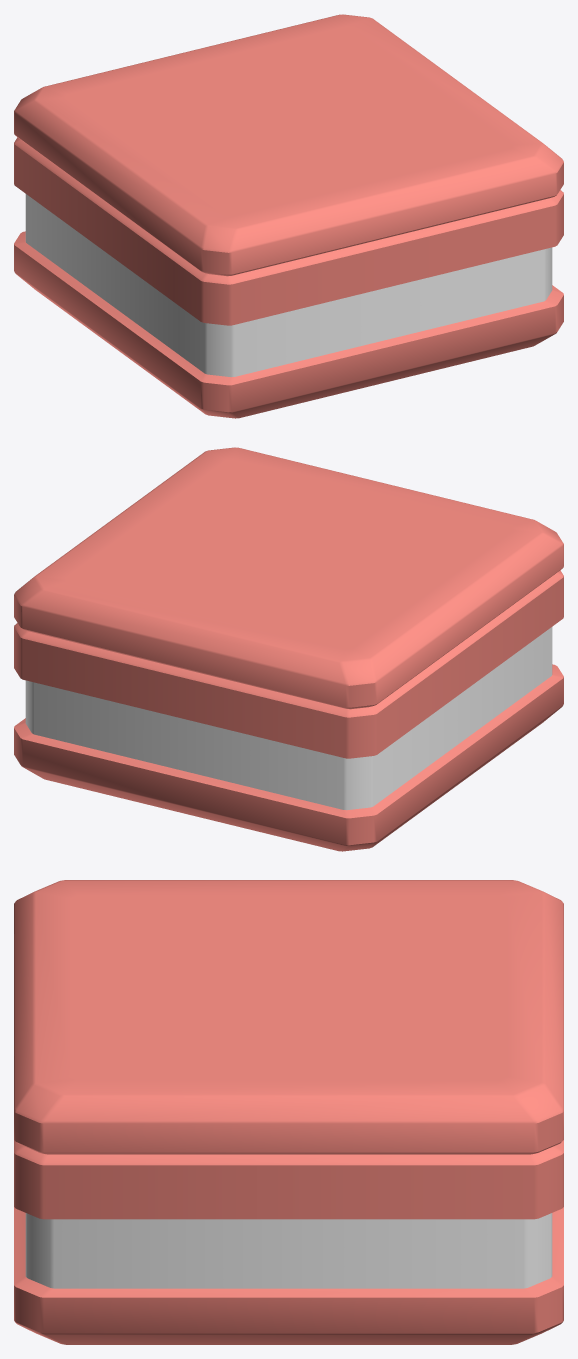
Rendered from 10_Box_red_semi_sized.fbx.
The picture shows the model from 3 angles, top to bottom: view 1: azimuth 30°, elevation 25°; view 2: azimuth 150°, elevation 25°; view 3: azimuth 270°, elevation 25°; orthographic projection. The views are drawn at different scales.
Visible parts, largest first — view 1: 10_Box_red_semi_sized; view 2: 10_Box_red_semi_sized; view 3: 10_Box_red_semi_sized.
Boxes of the visible parts, x1,y1,x2,y2 form: 10_Box_red_semi_sized: [14, 14, 563, 418]; 10_Box_red_semi_sized: [14, 447, 563, 851]; 10_Box_red_semi_sized: [14, 880, 563, 1344].
Size of the model in its own units: 100 by 50 by 100.
